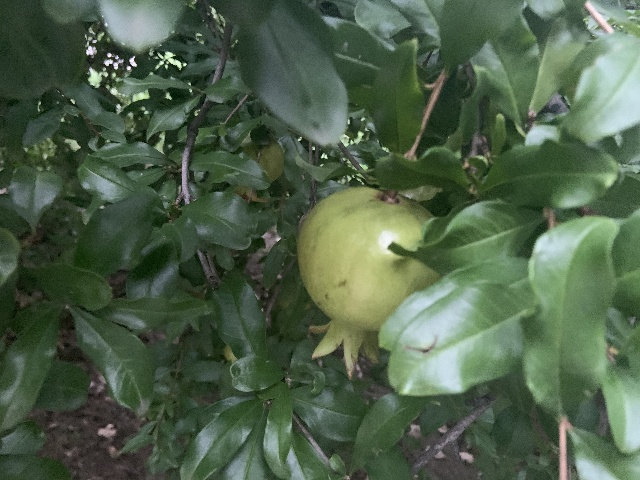mid-growth: (296, 186, 439, 380), (234, 132, 284, 202)
